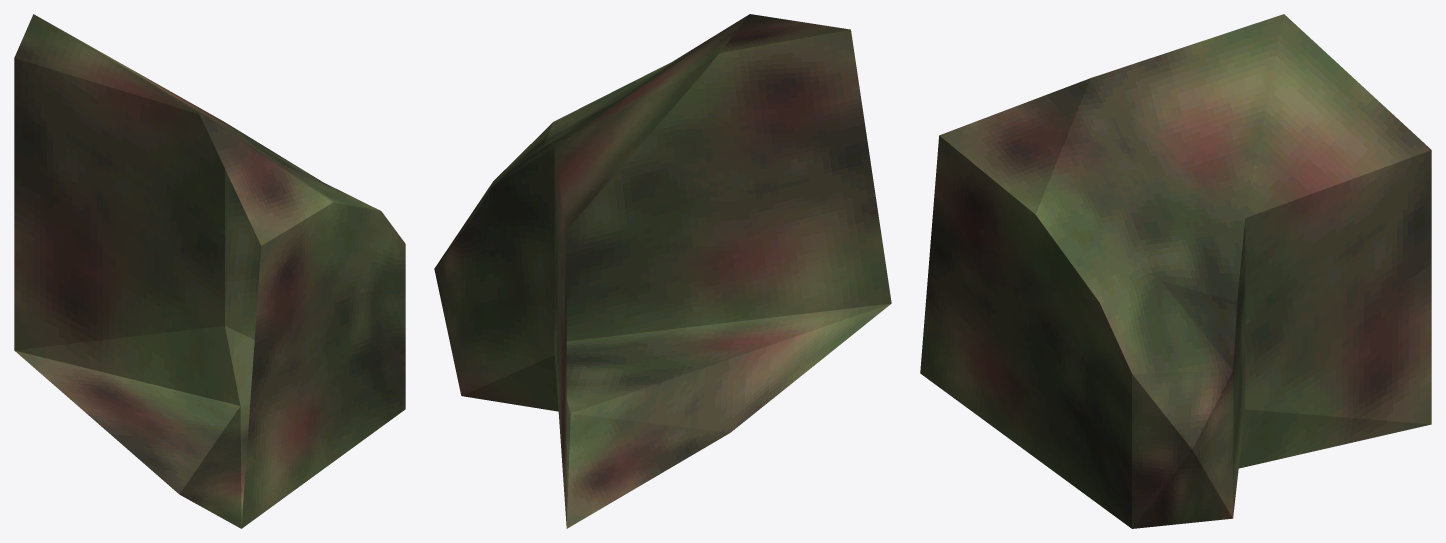
File: mare5exgate.dae
3 renders of one model, left to right at view 1: azimuth 30°, elevation 25°; view 2: azimuth 150°, elevation 25°; view 3: azimuth 270°, elevation 25°, orthographic. The views are drawn at different scales.
Parts seen in each view (by area): view 1: m0; view 2: m0; view 3: m0.
Boxes of the visible parts, box(x1,y1,x2,y2) form: m0: box(14, 14, 405, 528); m0: box(434, 14, 891, 528); m0: box(920, 14, 1431, 528).
Bounding box in the file's own units: 584 × 764 × 870.
Materials: 1 (1 with a texture image).
